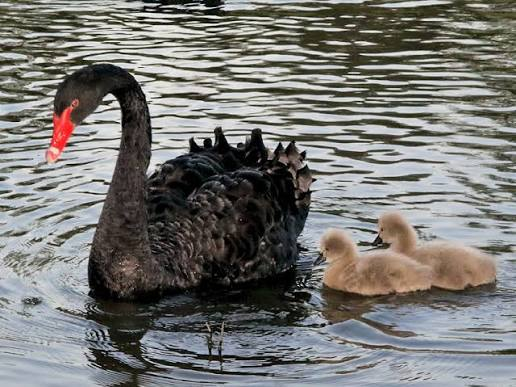black_swan: (35, 59, 318, 308), (361, 210, 499, 291), (301, 227, 435, 295)
